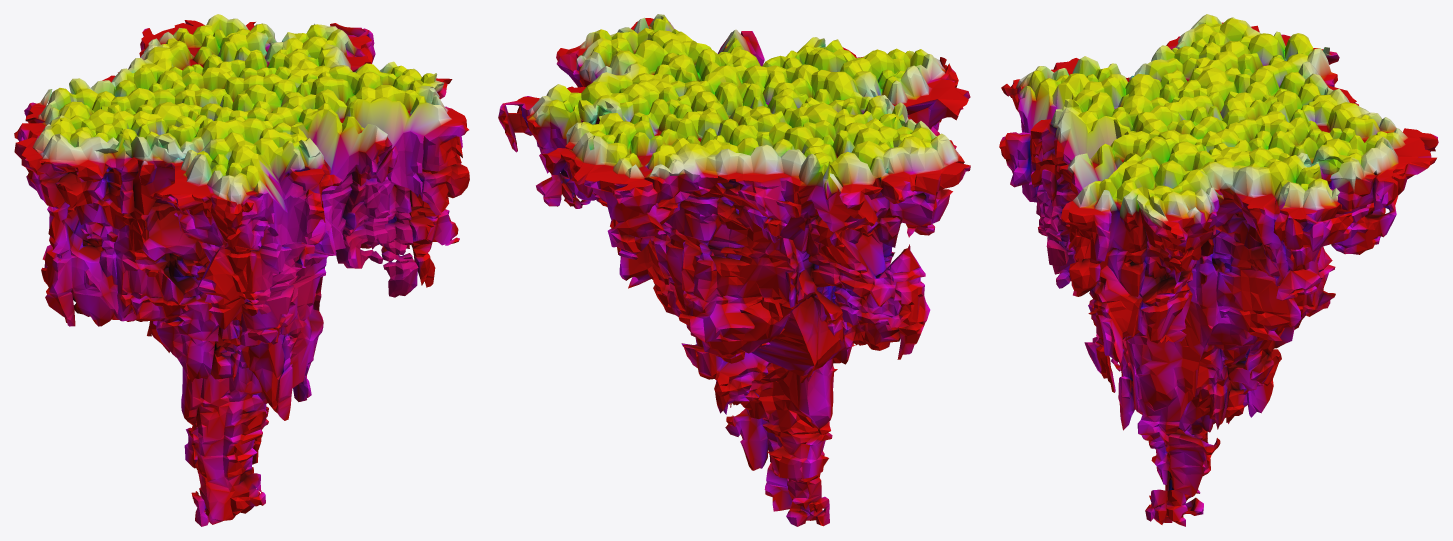
Rendered from island-mother-m.glb.
3 renders of one model, left to right at view 1: azimuth 30°, elevation 25°; view 2: azimuth 150°, elevation 25°; view 3: azimuth 270°, elevation 25°, orthographic. The views are drawn at different scales.
Bounding box in the file's own units: 403 × 392 × 357.
